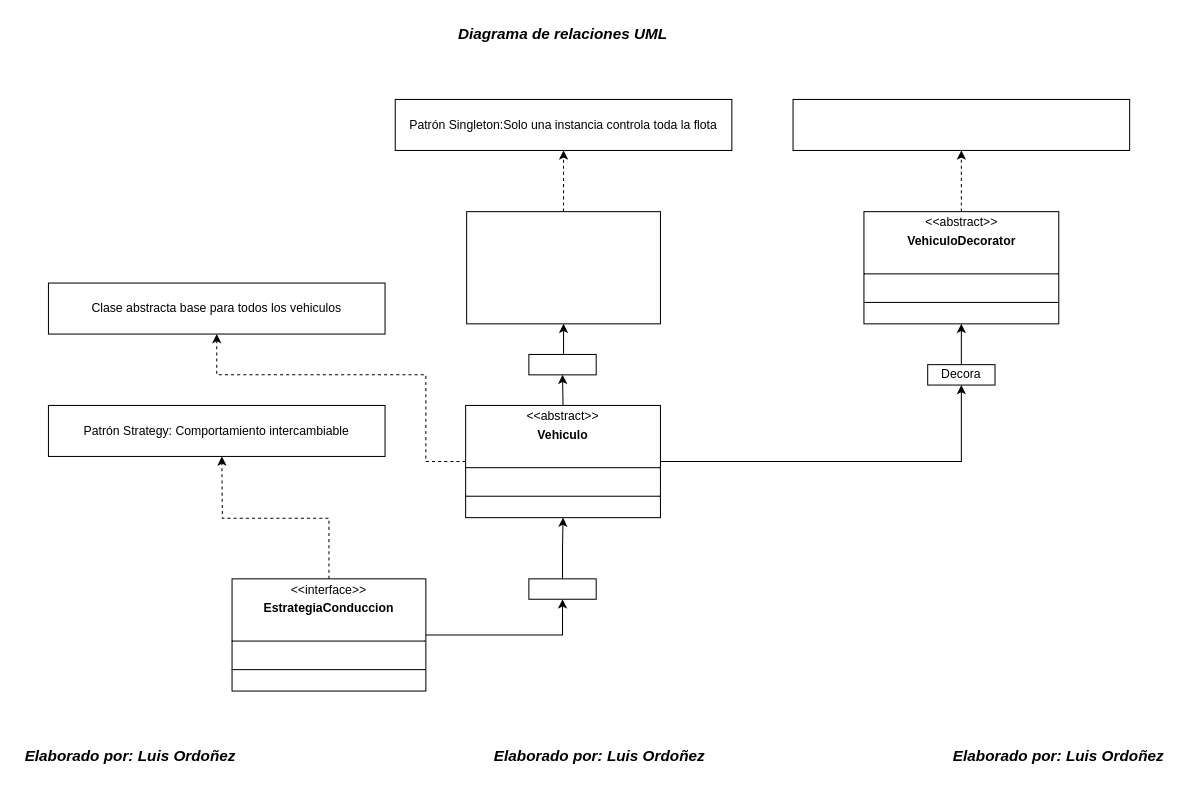
The diagram is 1187 pixels wide and 787 high, and some of its shapes have lost their labels. Each missing label, with the centre of its shape:
"Contiene" belongs at pixel 562 364.
"ControlDeFlota -_instancia" belongs at pixel 563 267.
"Patrón Decorator: Añade funcionalidades dinámicamente" belongs at pixel 961 124.
"Usa" belongs at pixel 562 588.
